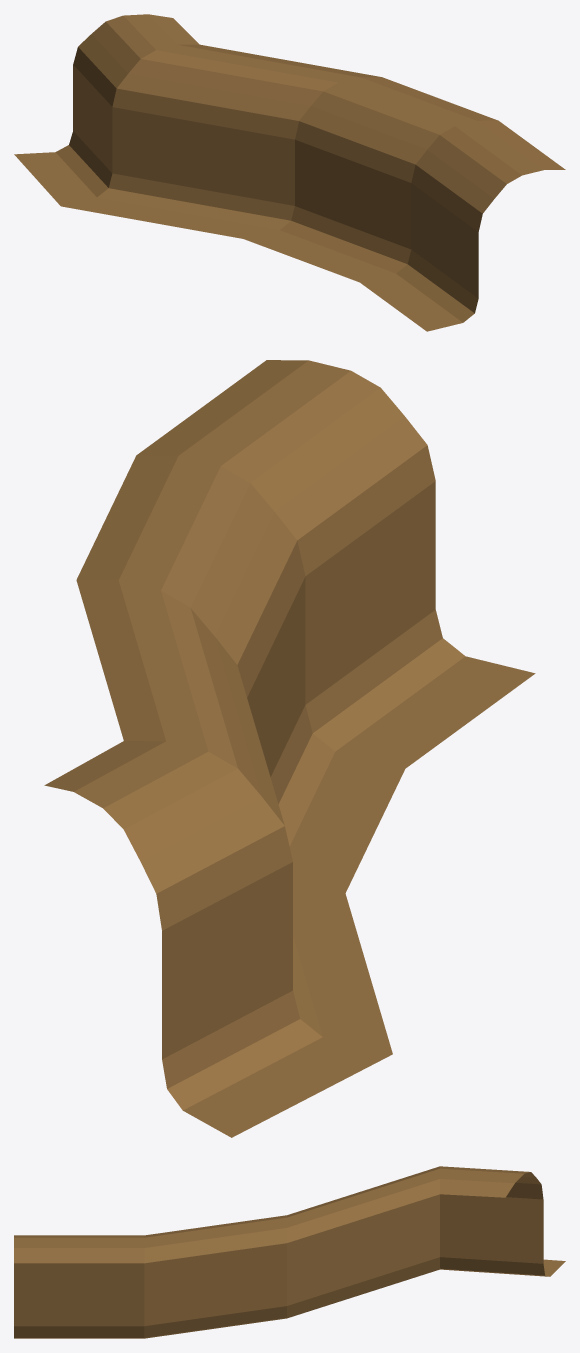
The model's file is Right.fbx.
The picture shows the model from 3 angles, top to bottom: view 1: azimuth 30°, elevation 25°; view 2: azimuth 150°, elevation 25°; view 3: azimuth 270°, elevation 25°; orthographic projection. The views are drawn at different scales.
Parts seen in each view (by area): view 1: LrgToSmR; view 2: LrgToSmR; view 3: LrgToSmR.
Part boxes in pixels (x1,y1,x2,y2): LrgToSmR: (14, 14, 565, 331); LrgToSmR: (44, 360, 535, 1137); LrgToSmR: (14, 1166, 565, 1338).
Size of the model in its own units: 653 by 291 by 1130.
